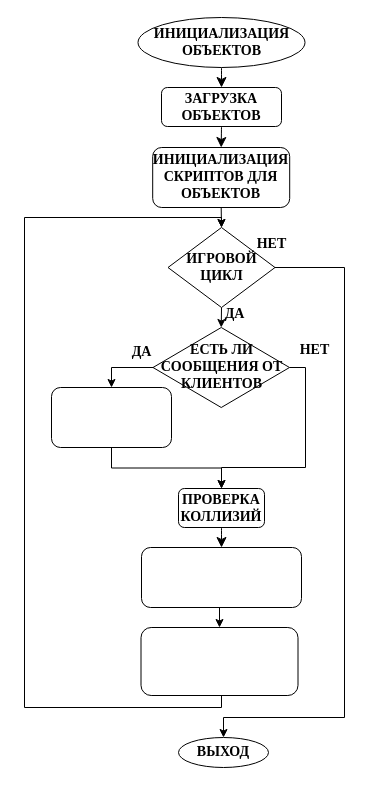
The diagram is 370 pixels wide and 785 high, and some of its shapes have lost their labels. Each missing label, with the centre of its shape:
"ВЫПОЛНЕНИЕ СКРИПТОВ, ОБРАБОТКА ВВОДА ПОЛЬЗОВАТЕЛЯ" goes at pixel 221 577.
"ОТПРАВКА НОВГО СОСТОЯНИЯ ИГРЫ ВСЕМ ПОЛЬЗОВАТЕЛЯМ" goes at pixel 219 661.
"ПРЕМЕНЕНИЕ СОСТОЯНИЕ КЛИЕНТА" goes at pixel 111 417.
